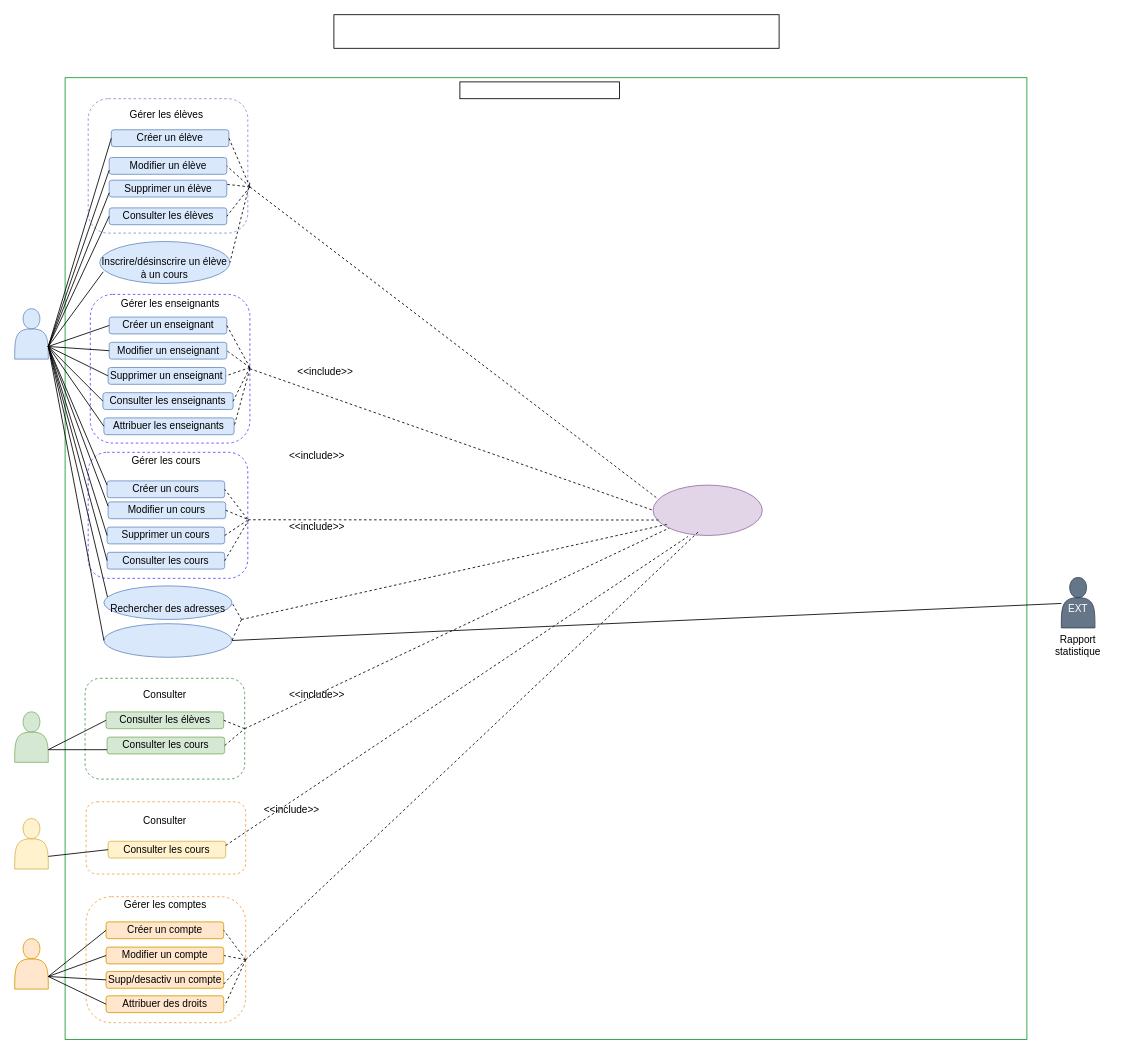
This 1122x1054 diagram has some shape labels left out. Each missing label, with the centre of its shape:
"ADM" goes at (31,963).
"Consulter les statistiques" goes at (167,640).
"Diagramme des cas d'utilisations" goes at (556,31).
"DIR" goes at (31,333).
"S'authentifier" goes at (707,510).
"School Application" goes at (539,90).
"STU" goes at (31,843).
"TEA" goes at (31,736).
